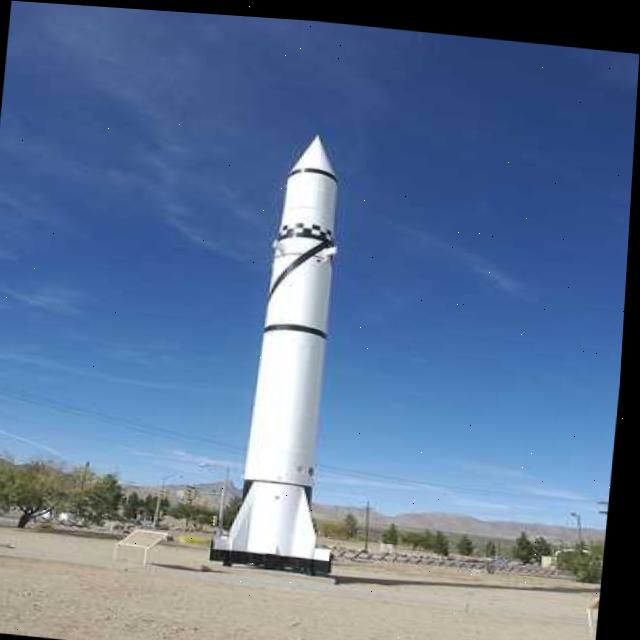missile: (204, 121, 387, 572)
